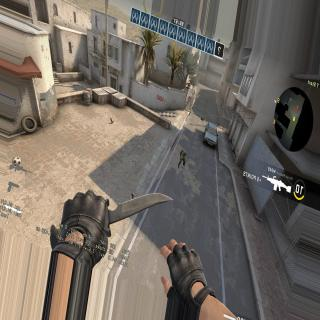CT-Body: (179, 149, 187, 167)
CT-Head: (184, 151, 186, 155)
